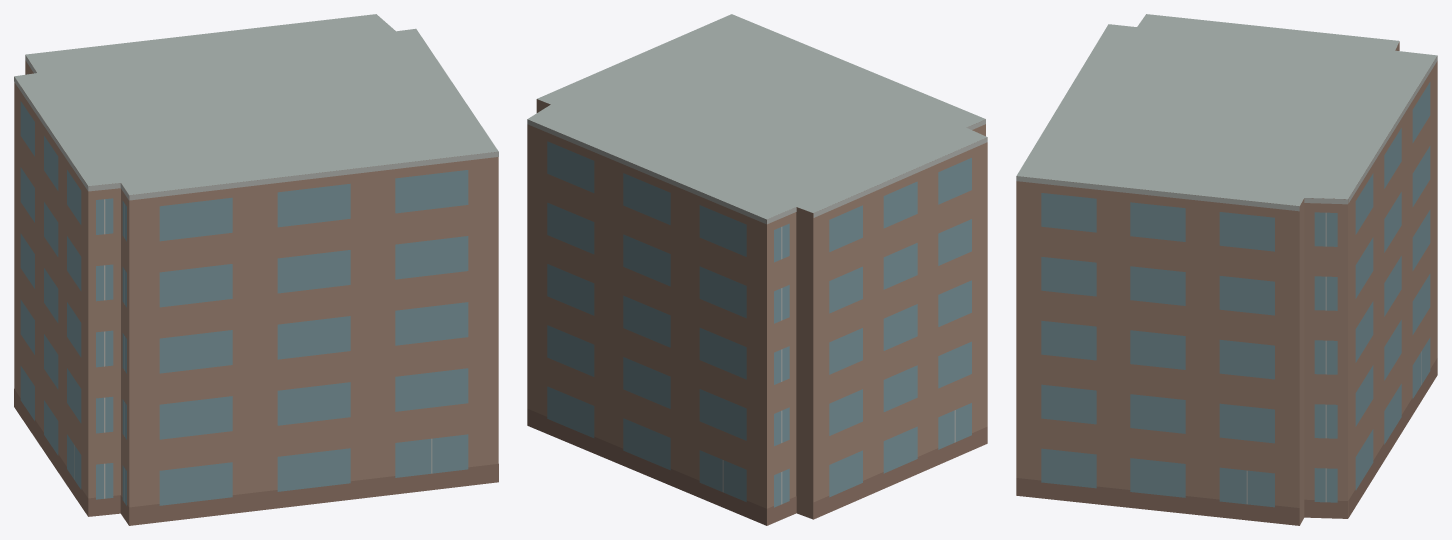
Rendered from survey-upis-32703920.glb.
The picture shows the model from 3 angles, left to right: view 1: azimuth 30°, elevation 25°; view 2: azimuth 150°, elevation 25°; view 3: azimuth 270°, elevation 25°; orthographic projection. The views are drawn at different scales.
Parts seen in each view (by area): view 1: survey-upis-32703920.tmp; view 2: survey-upis-32703920.tmp; view 3: survey-upis-32703920.tmp.
Boxes of the visible parts, x1,y1,x2,y2 form: survey-upis-32703920.tmp: [14, 14, 498, 525]; survey-upis-32703920.tmp: [527, 14, 987, 525]; survey-upis-32703920.tmp: [1016, 14, 1437, 525].
Bounding box in the file's own units: 19.61 × 15.2 × 18.16.
